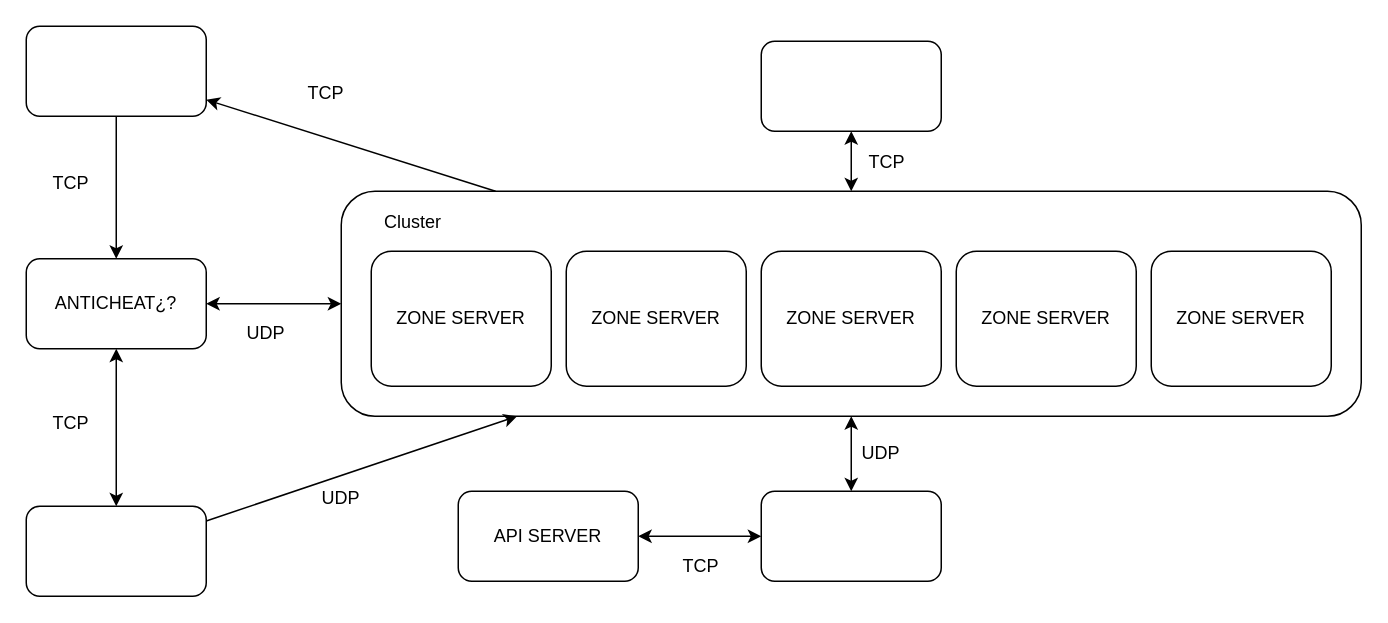
Some shapes in this 1388 by 623 pixel diagram are drawn without their labels. The centre of each missing label's shape, as x and y in pixels:
CACHE: (115,70)
CLIENT: (850,535)
PERSISTANCE SERVER: (115,550)
SERVERS HEAD: (850,85)
